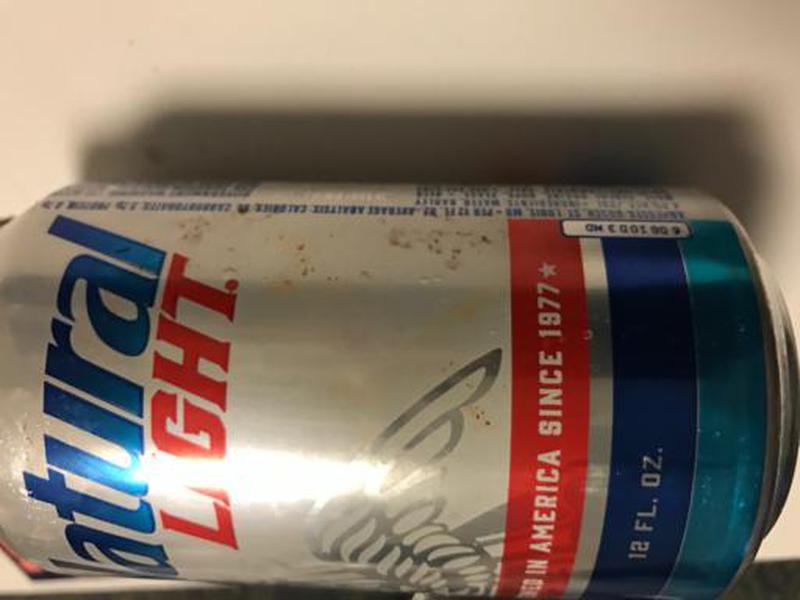can: (1, 153, 800, 600)
